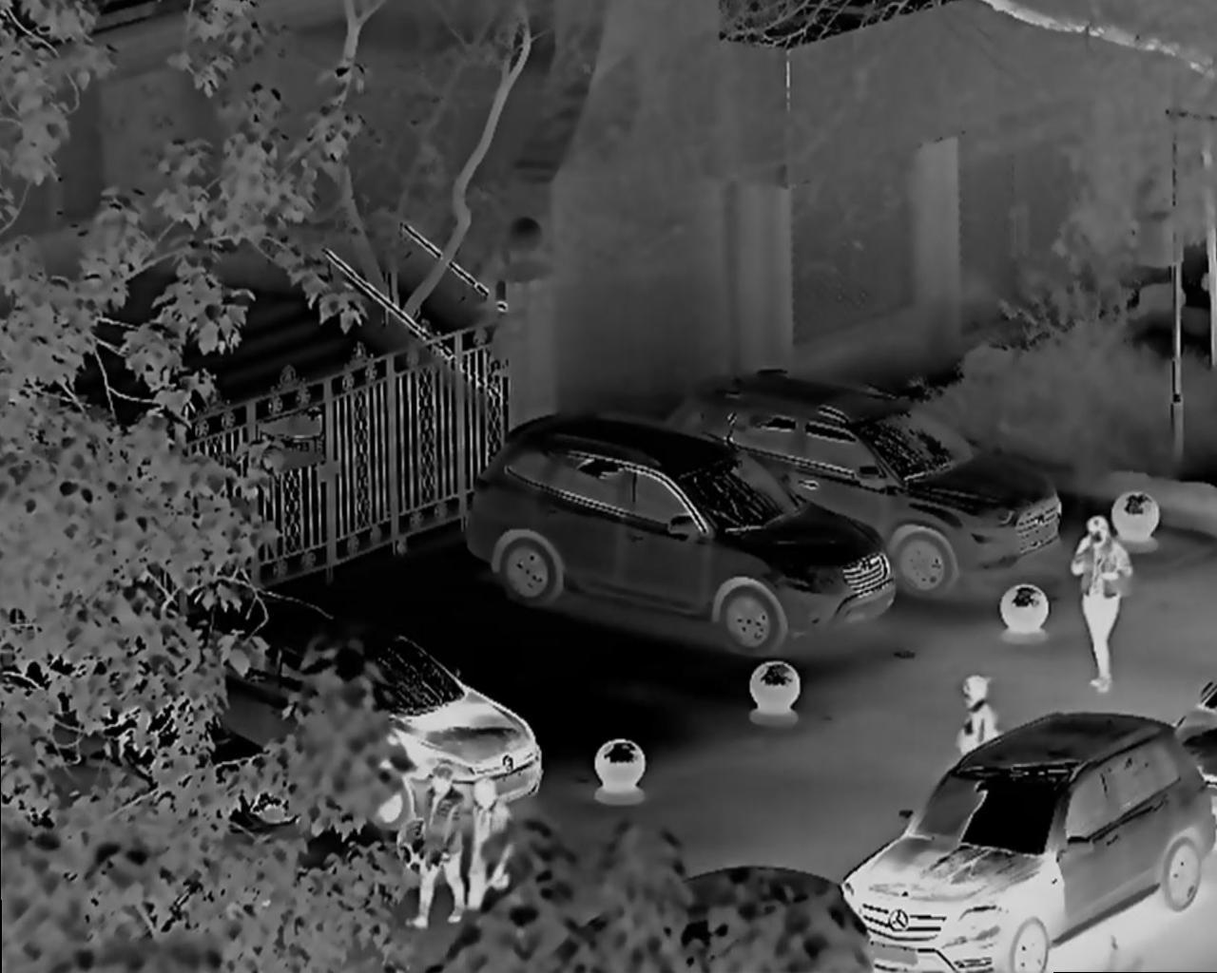person: (1072, 512, 1128, 700), (417, 768, 461, 924), (465, 773, 521, 895), (942, 669, 1001, 767)
